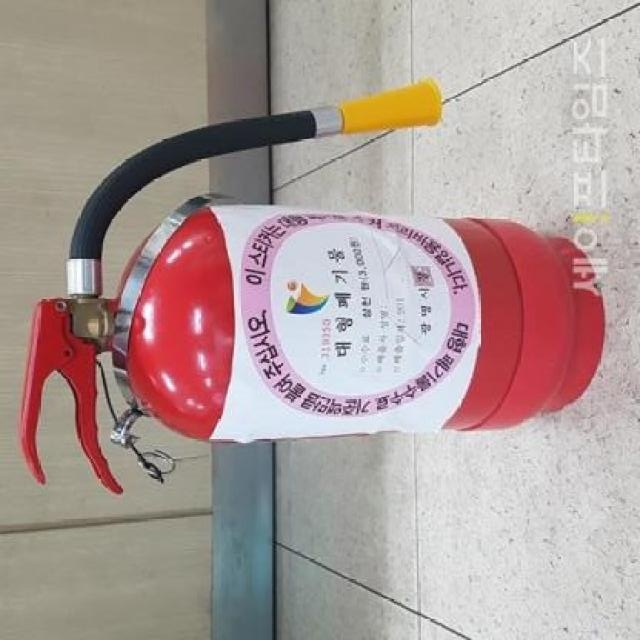fire extinguisher: (19, 78, 605, 494)
